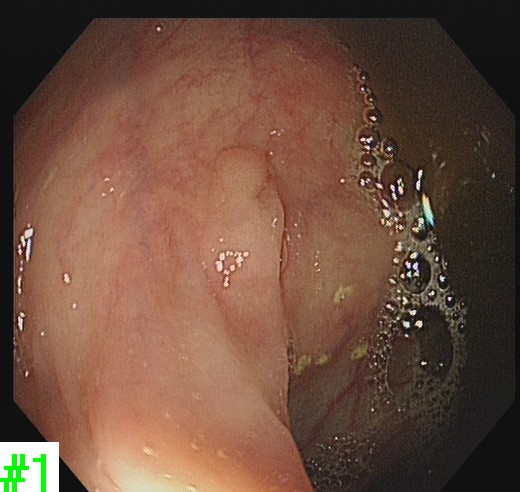others: (211, 144, 270, 207)
